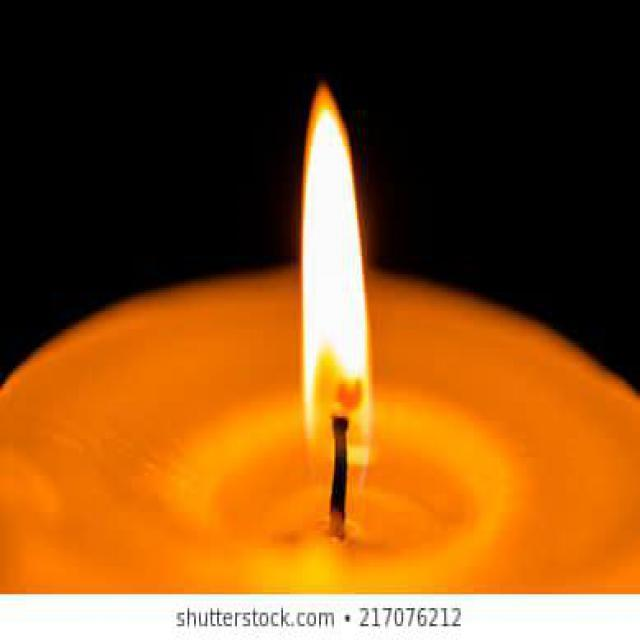Fire: (300, 83, 373, 472)
